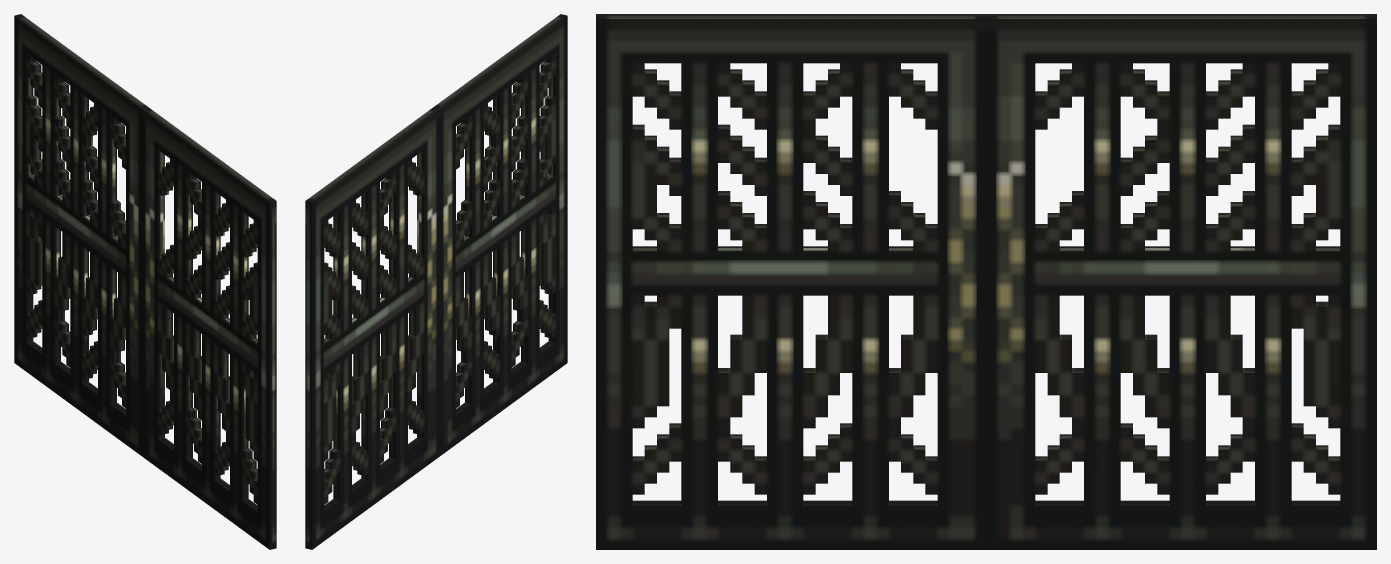
The model's file is ObjMD_Daiseido_Gate_L.FBX.
3 renders of one model, left to right at view 1: azimuth 30°, elevation 25°; view 2: azimuth 150°, elevation 25°; view 3: azimuth 270°, elevation 25°, orthographic. The views are drawn at different scales.
Visible parts, largest first — view 1: ObjMD_Daiseido_Gate_L, ObjMD_Daiseido_Gate_R; view 2: ObjMD_Daiseido_Gate_R, ObjMD_Daiseido_Gate_L; view 3: ObjMD_Daiseido_Gate_L, ObjMD_Daiseido_Gate_R.
Boxes of the visible parts, box(x1,y1,x2,y2) form: ObjMD_Daiseido_Gate_L: box(142, 107, 276, 549); ObjMD_Daiseido_Gate_R: box(14, 14, 148, 455); ObjMD_Daiseido_Gate_R: box(305, 107, 439, 549); ObjMD_Daiseido_Gate_L: box(433, 14, 567, 455); ObjMD_Daiseido_Gate_L: box(596, 14, 986, 549); ObjMD_Daiseido_Gate_R: box(986, 14, 1376, 549).
Size of the model in its own units: 6.25 by 300 by 400.
